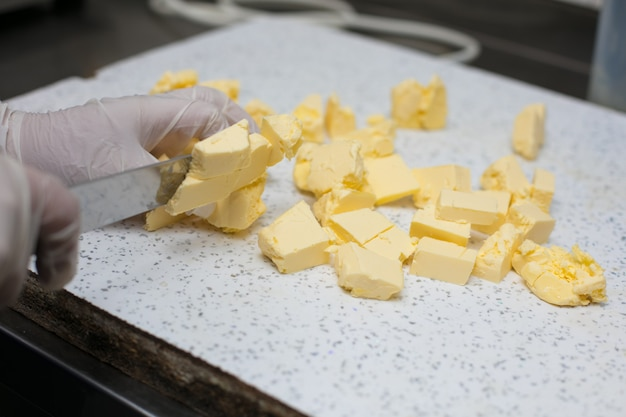knife: (19, 148, 203, 242)
